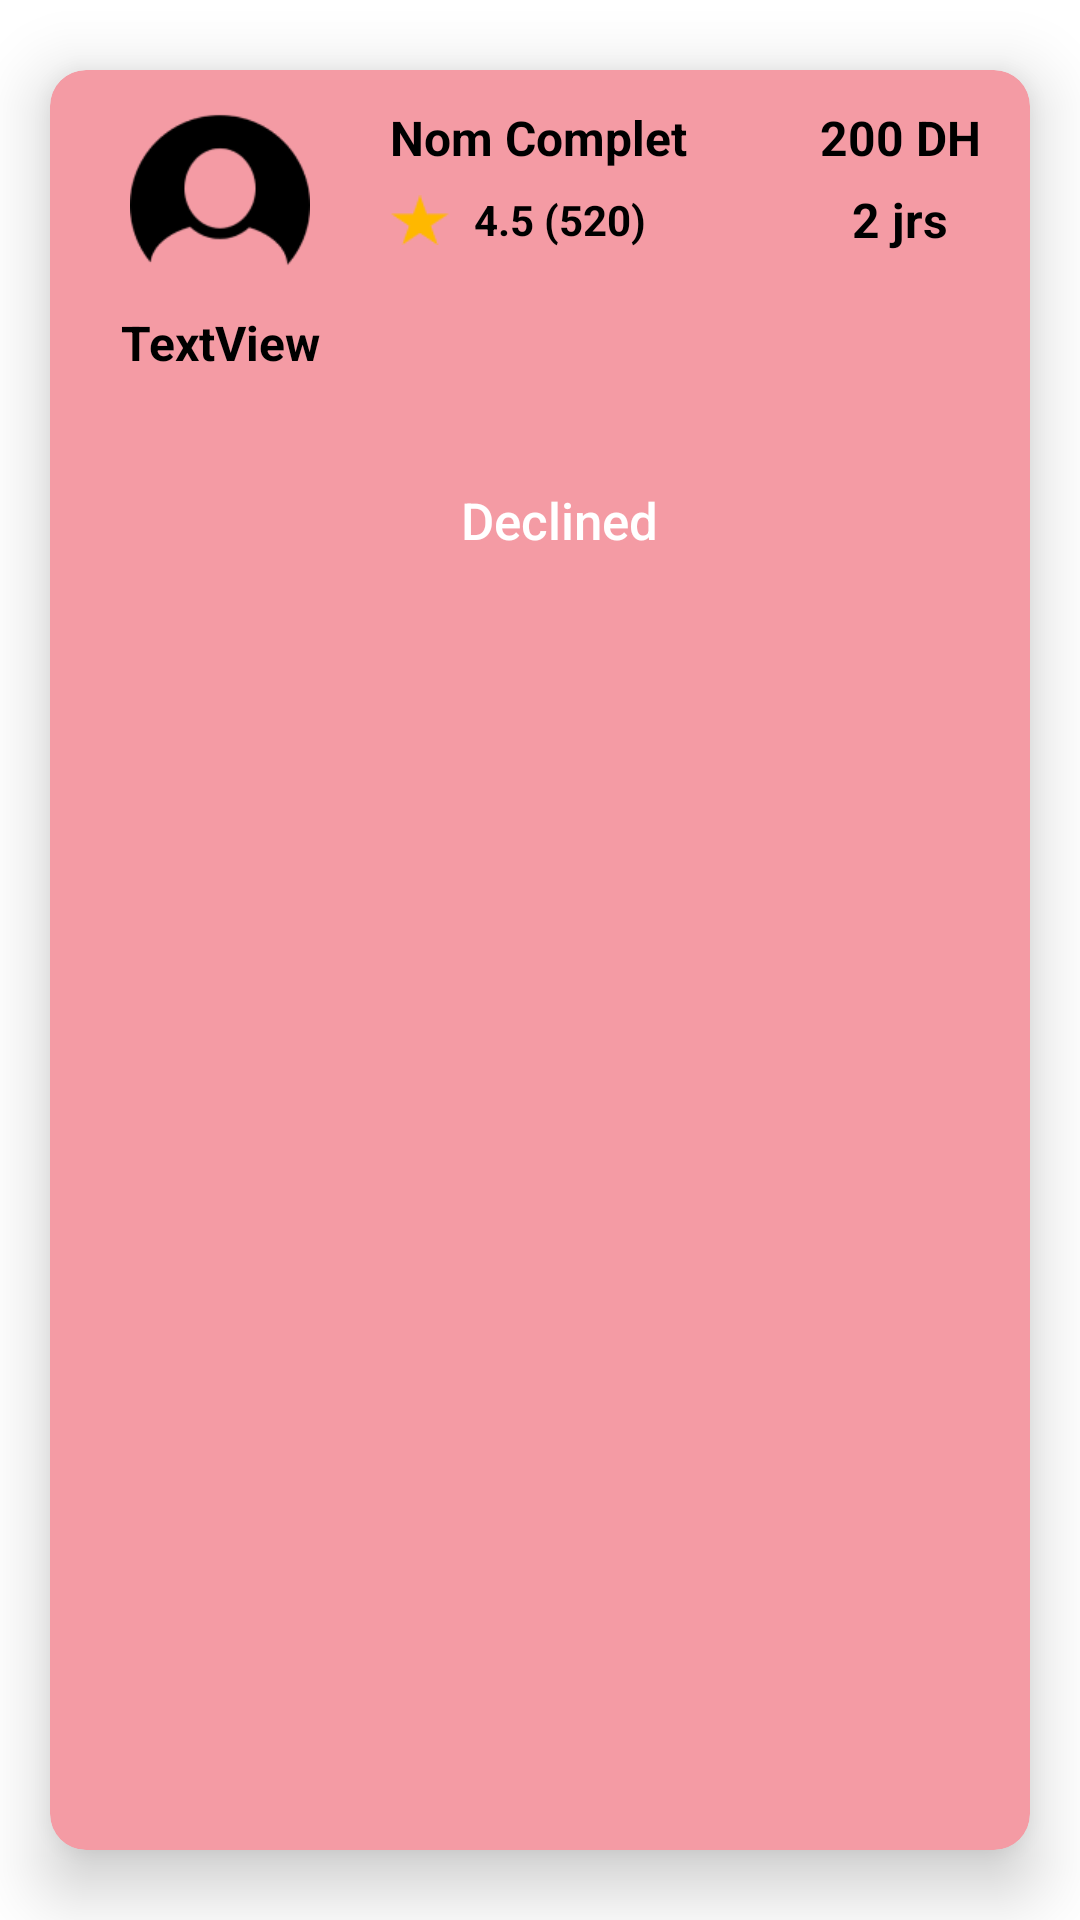

Named icons in this screenshot (1080w x 1920h) and their centers, point (x, y):
star: point (419, 220)
user: point (220, 190)
